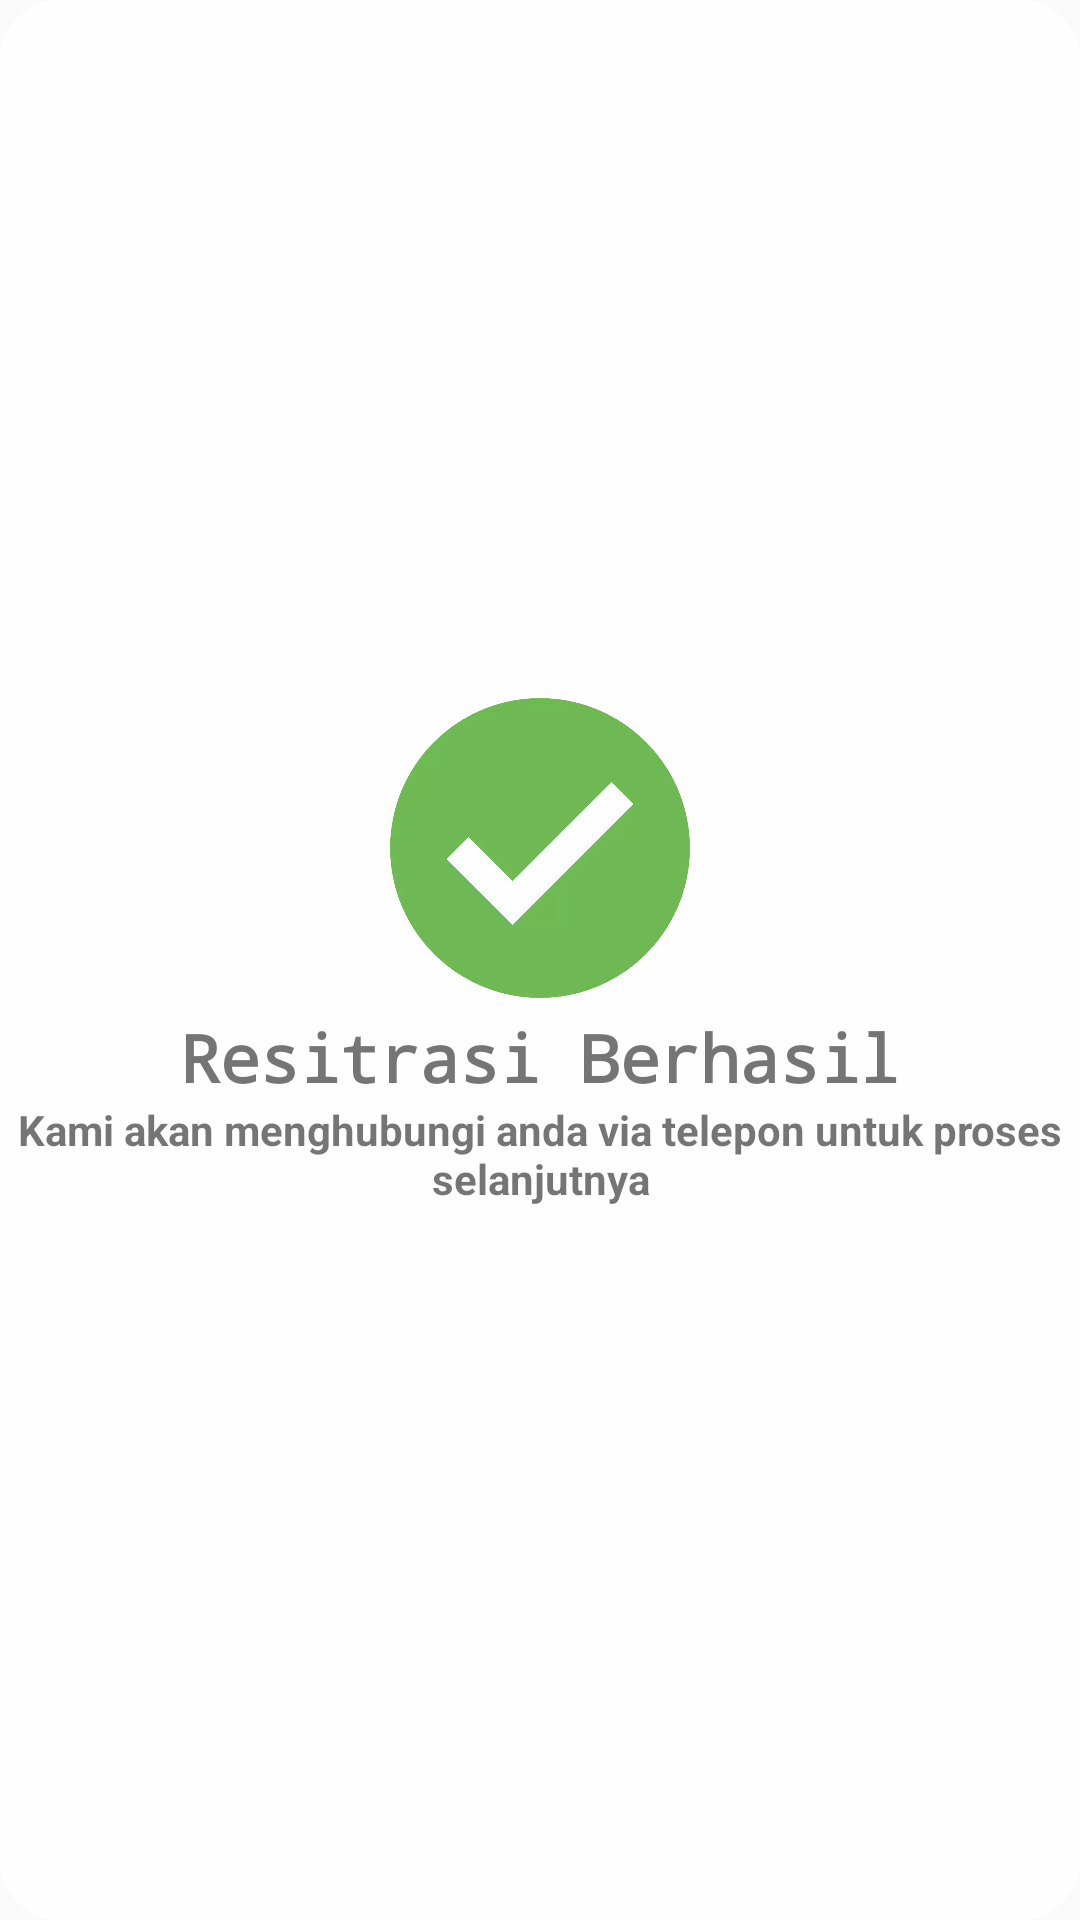

Icon click points for this 1080*1920 phone screenshot, format point (x, y):
centang: point (540, 848)
